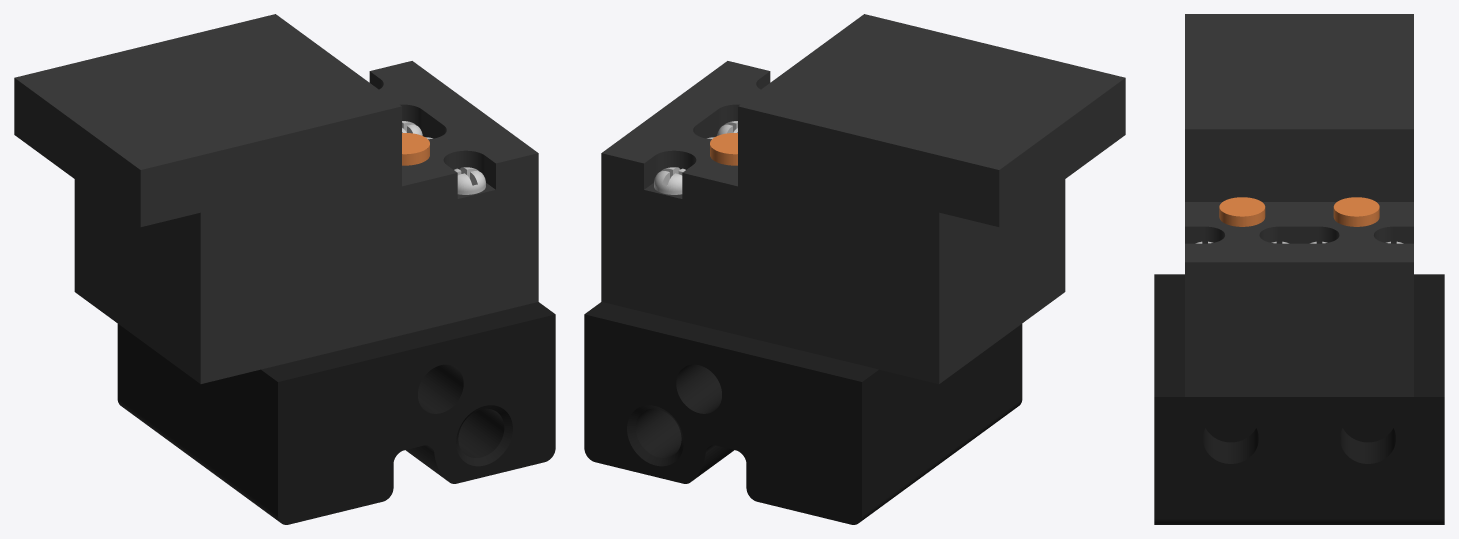
The model's file is Manifold_Assembly.glb.
3 views of the same model, side by side, from view 1: azimuth 30°, elevation 25°; view 2: azimuth 150°, elevation 25°; view 3: azimuth 270°, elevation 25° (orthographic). The views are drawn at different scales.
Parts seen in each view (by area): view 1: Manifold Assembly; view 2: Manifold Assembly; view 3: Manifold Assembly.
Part boxes in pixels (x1=…): Manifold Assembly: x1=14, y1=14, x2=555, y2=524; Manifold Assembly: x1=584, y1=14, x2=1125, y2=524; Manifold Assembly: x1=1154, y1=14, x2=1444, y2=524.
Bounding box in the file's own units: 1.43 × 1.29 × 1.
